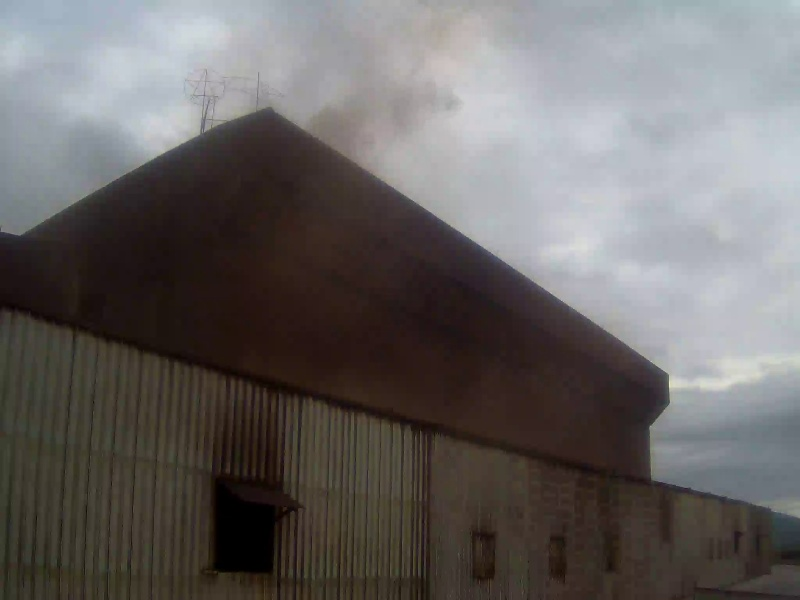bom: (629, 296, 794, 483)
ruim: (243, 22, 683, 461), (4, 9, 285, 250)
